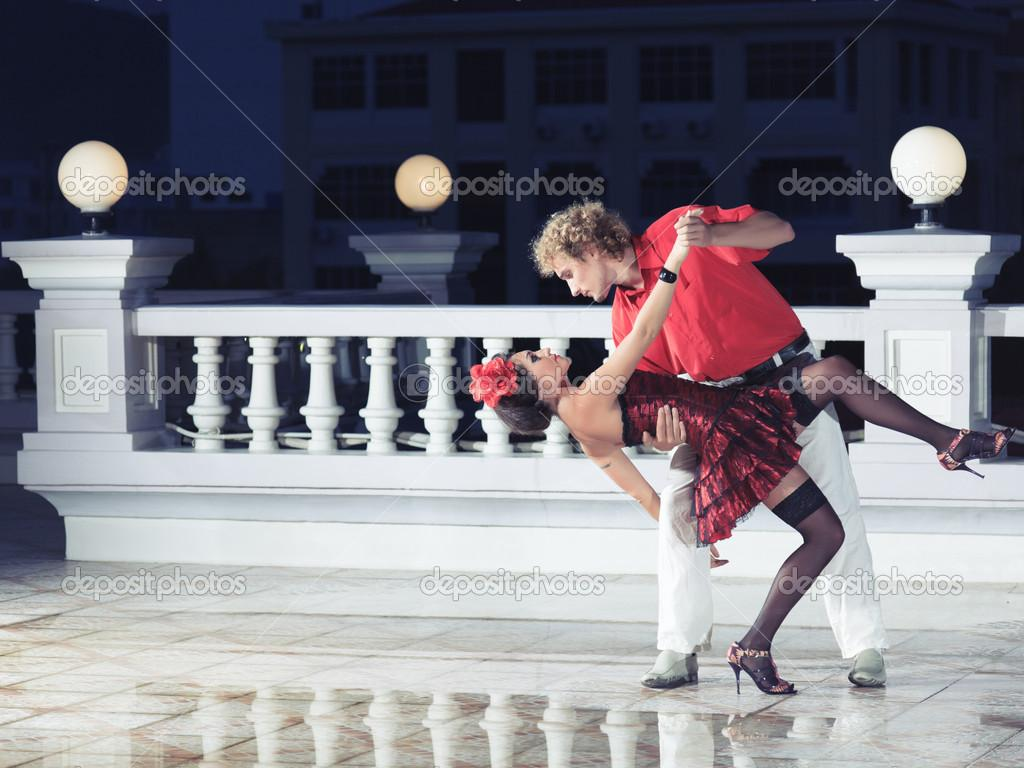face: (542, 236, 606, 302), (506, 348, 572, 388)
